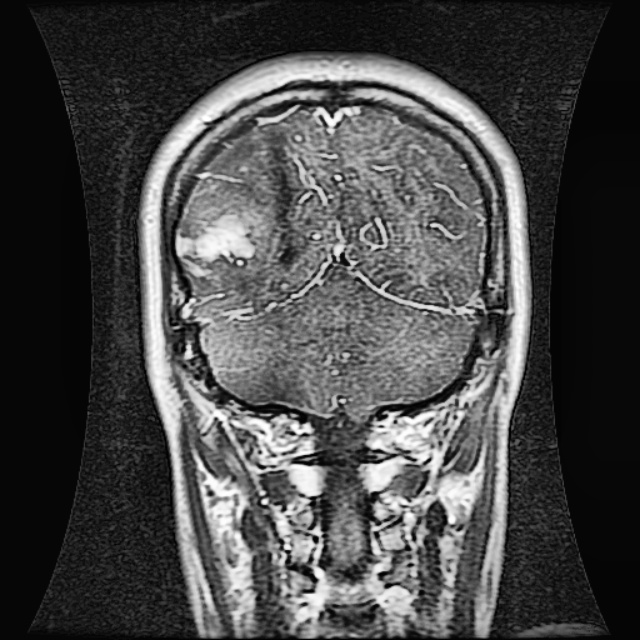Meningioma: (178, 209, 257, 278)
